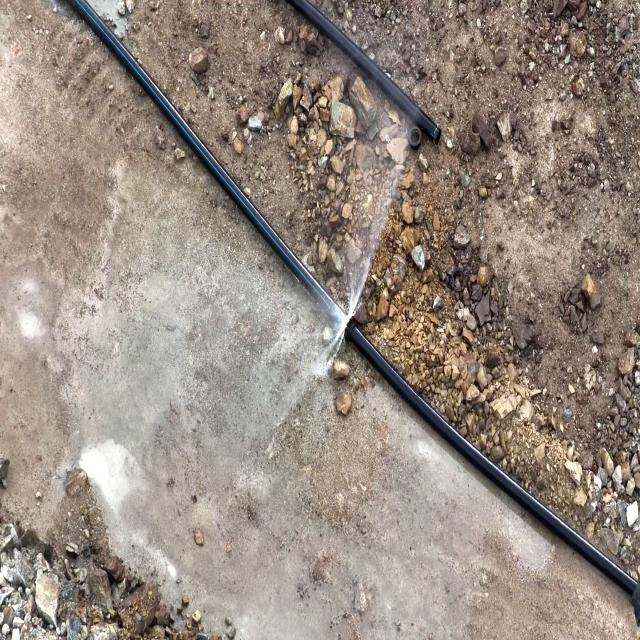leak: (290, 176, 396, 390)
